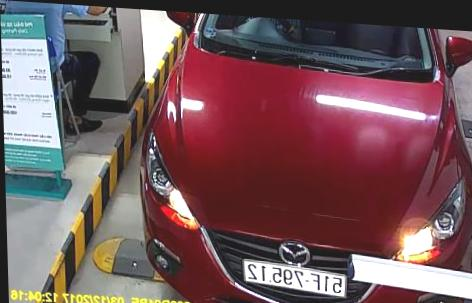License_Plate: (239, 261, 349, 293)
